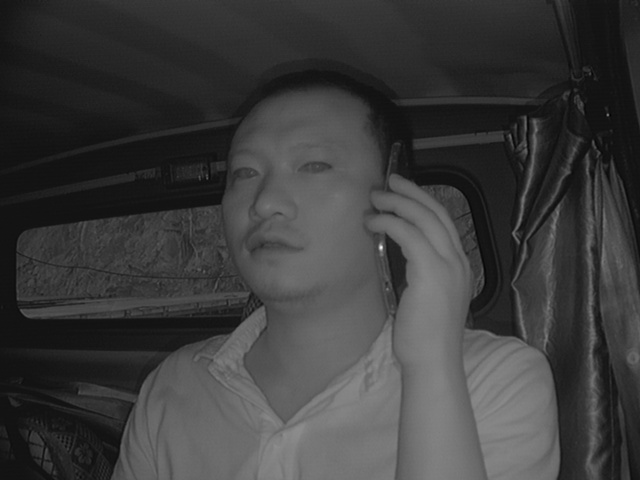hand: (361, 175, 485, 377)
